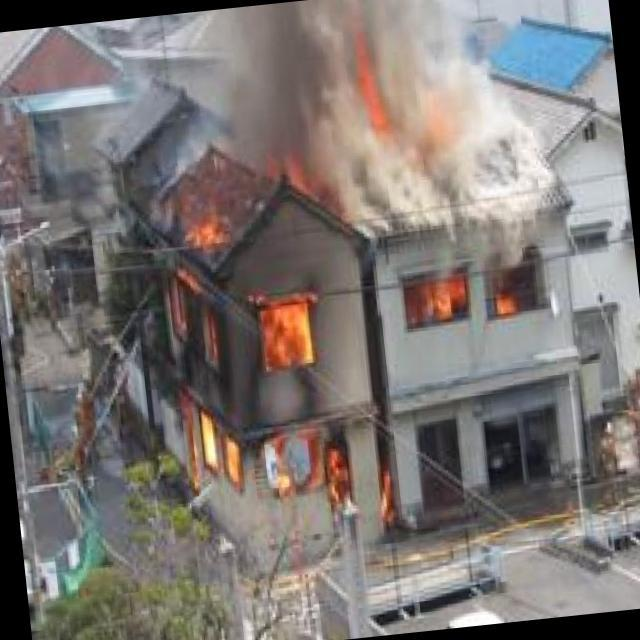Fire: (125, 155, 359, 528), (348, 56, 462, 167), (398, 260, 551, 327)
